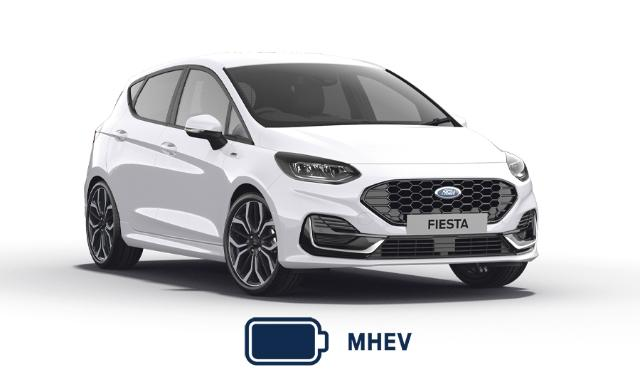ford: (84, 56, 540, 296)
